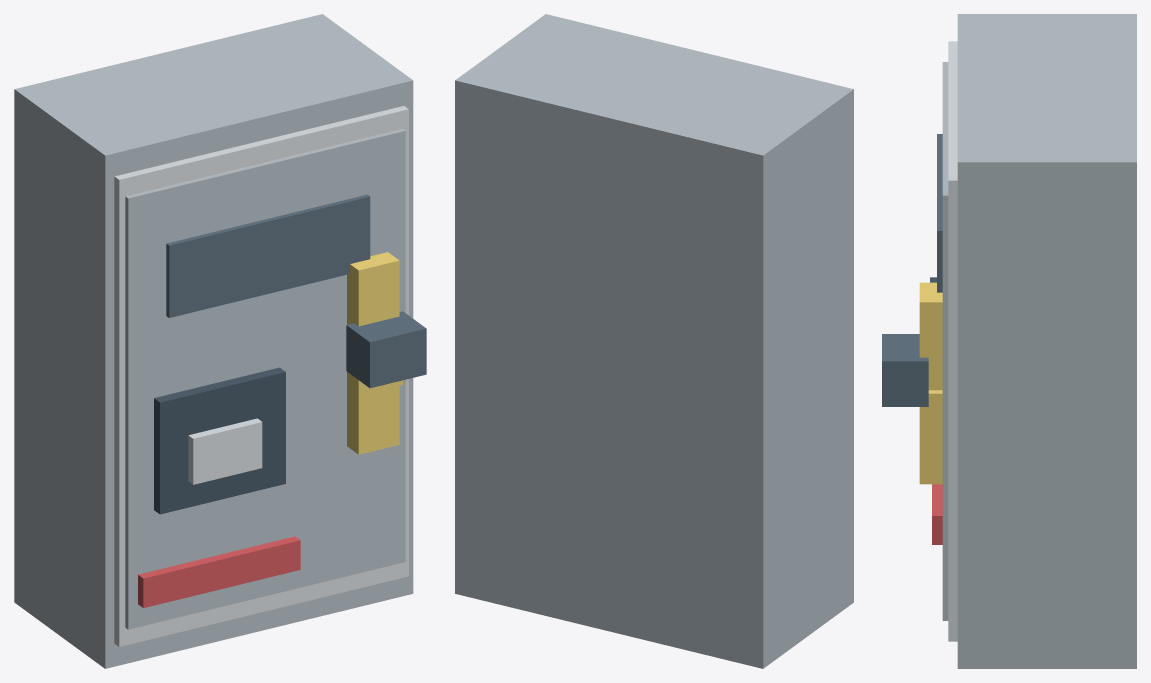
The model's file is disconnect-breaker-generic.glb.
The picture shows the model from 3 angles, left to right: view 1: azimuth 30°, elevation 25°; view 2: azimuth 150°, elevation 25°; view 3: azimuth 270°, elevation 25°; orthographic projection.
Parts seen in each view (by area): view 1: disconnect-breaker-generic; view 2: disconnect-breaker-generic; view 3: disconnect-breaker-generic.
Part boxes in pixels (x1=…): disconnect-breaker-generic: x1=14, y1=14, x2=426, y2=668; disconnect-breaker-generic: x1=455, y1=14, x2=853, y2=668; disconnect-breaker-generic: x1=882, y1=14, x2=1136, y2=668.
Size of the model in its own units: 0.49 by 0.78 by 0.3555.
